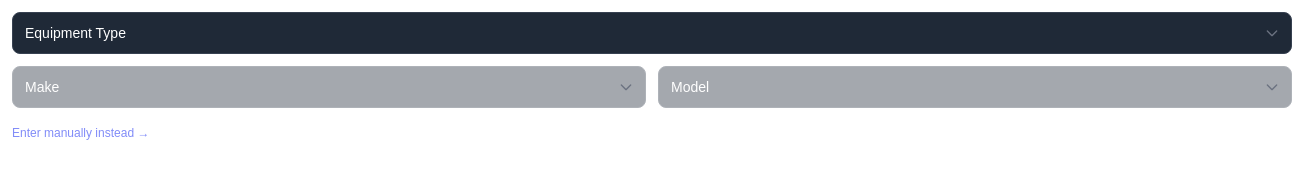
Test: ItemPicker › enables Make and populates brands after selecting a type
Step 1. Select "Tractor" in the dropdown named "Equipment Type" → (652, 33), box [12,12,1292,54]
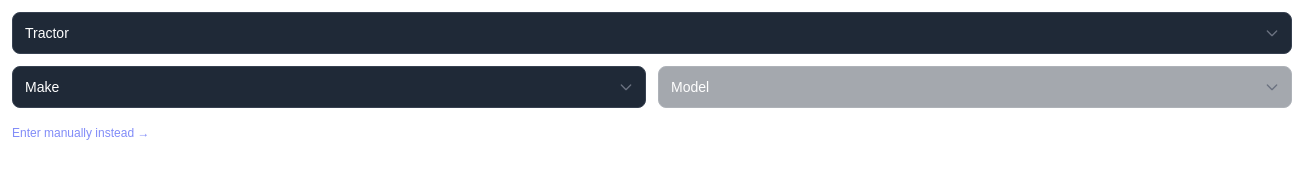
Expected: the dropdown named "Make" does not show "CLAAS", [12,66,646,108]
Now the dropdown named "Make" is enabled, box [12,66,646,108]
